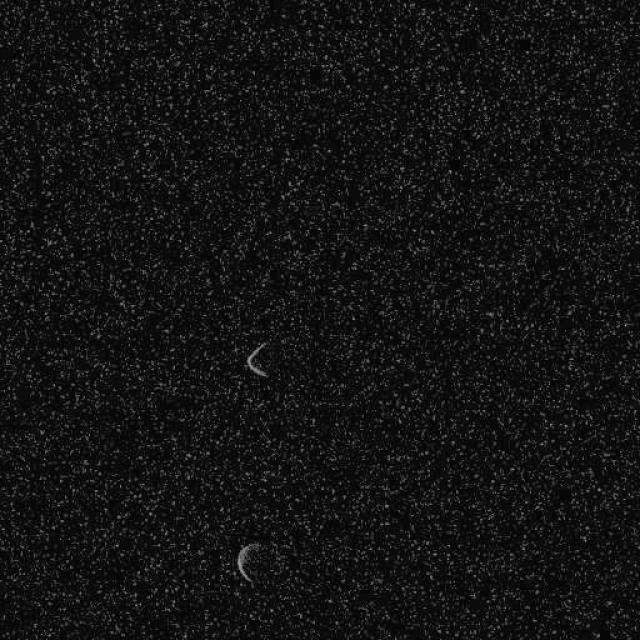D2: (235, 540, 261, 585), (244, 339, 271, 379)
